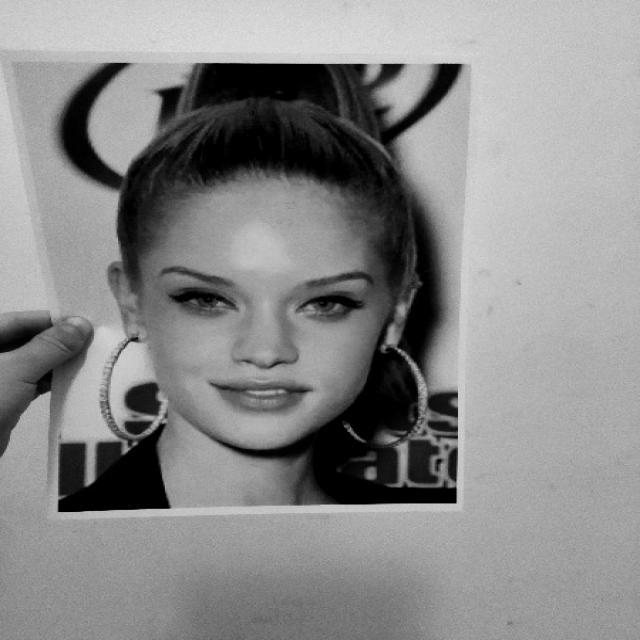fake: (0, 35, 480, 520)
